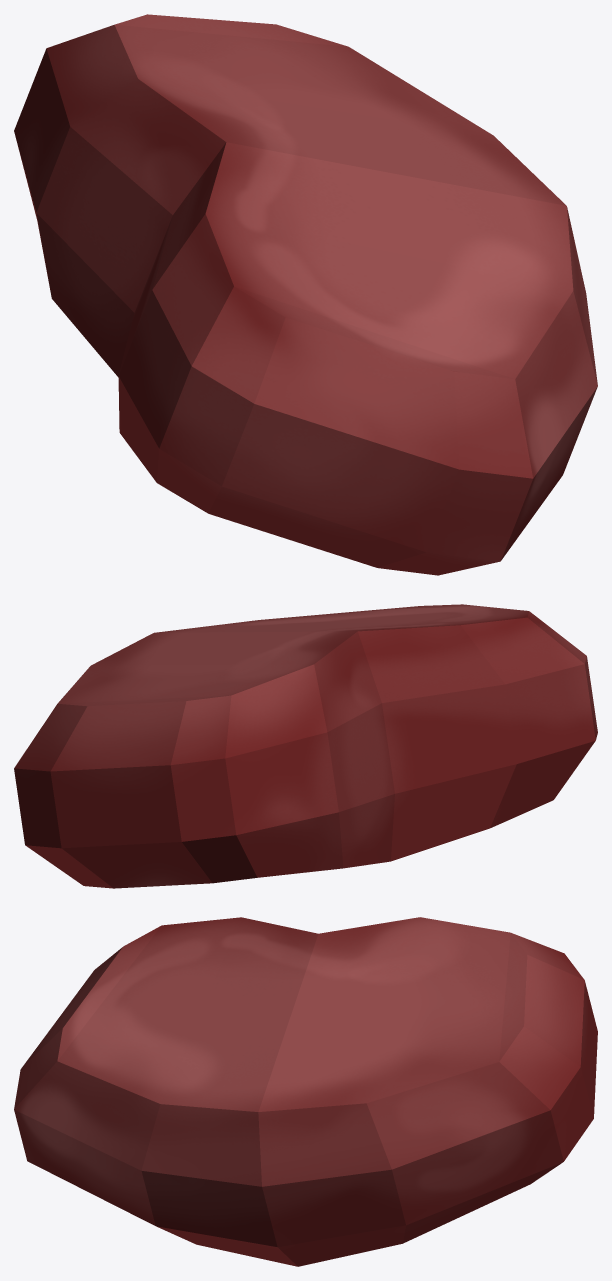
The model's file is chicken_kidney.fbx.
3 views of the same model, one above another, from view 1: azimuth 30°, elevation 25°; view 2: azimuth 150°, elevation 25°; view 3: azimuth 270°, elevation 25° (orthographic). The views are drawn at different scales.
Parts seen in each view (by area): view 1: kidney; view 2: kidney; view 3: kidney.
Boxes of the visible parts, x1,y1,x2,y2 form: kidney: [14, 14, 597, 575]; kidney: [14, 604, 597, 888]; kidney: [14, 917, 597, 1266].
Bounding box in the file's own units: 54.9 × 38.33 × 76.68.
1 material, 1 textured.
